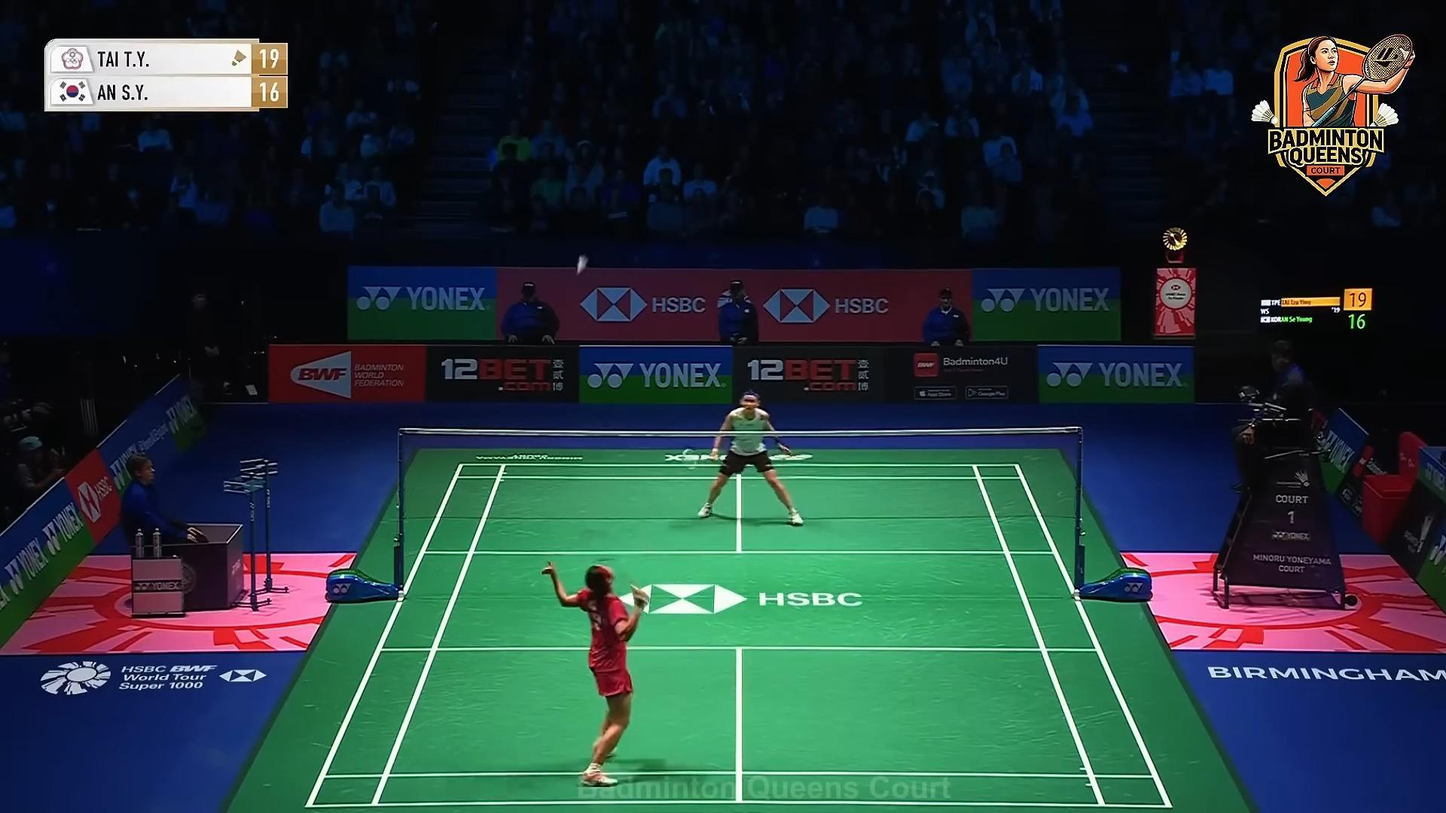shuttlecock: (576, 254, 588, 275)
